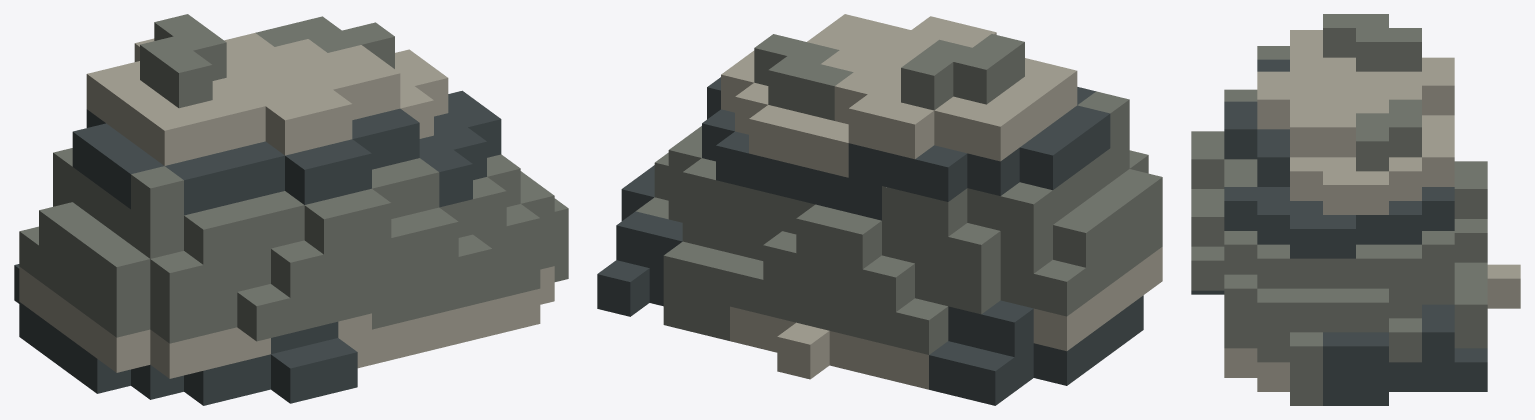
Rendered from layered_rock_v2_mid.glb.
3 renders of one model, left to right at view 1: azimuth 30°, elevation 25°; view 2: azimuth 150°, elevation 25°; view 3: azimuth 270°, elevation 25°, orthographic. The views are drawn at different scales.
Parts seen in each view (by area): view 1: layered_rock_v2_mid; view 2: layered_rock_v2_mid; view 3: layered_rock_v2_mid.
Part boxes in pixels (x1,y1,x2,y2): layered_rock_v2_mid: [14, 14, 568, 405]; layered_rock_v2_mid: [597, 14, 1162, 405]; layered_rock_v2_mid: [1191, 14, 1520, 405].
Bounding box in the file's own units: 3.5 × 2 × 2.5.
Materials: 1 (1 with a texture image).
